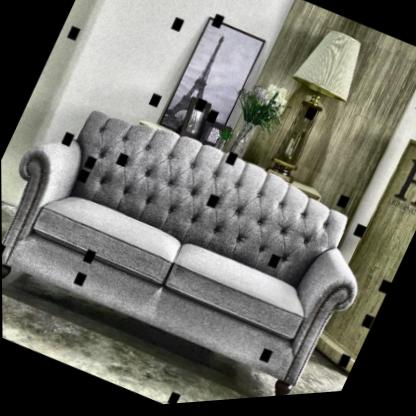Lamp: (249, 23, 369, 197)
Sofa: (1, 64, 380, 410)
